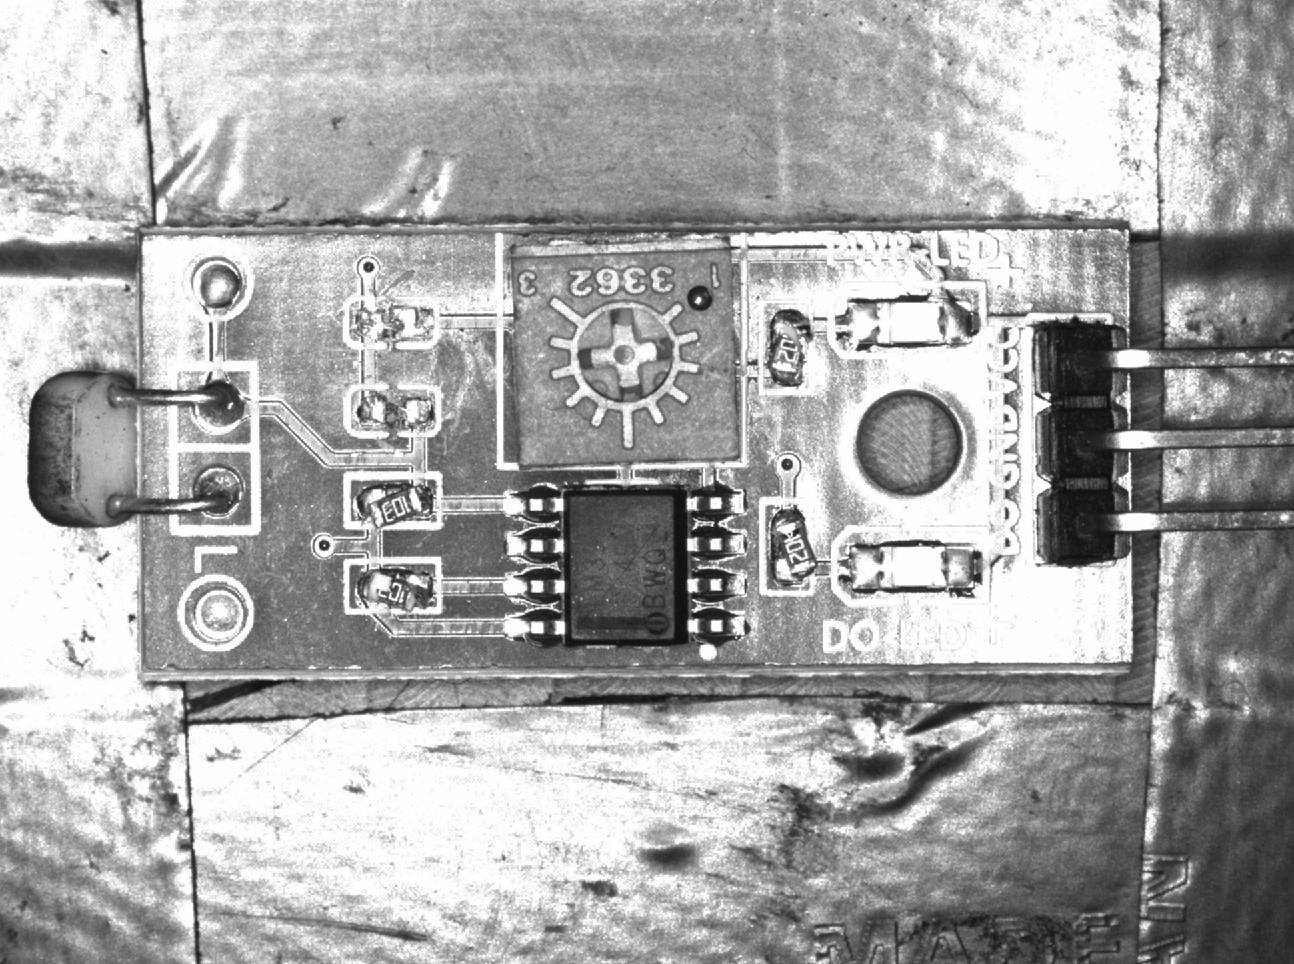lifted: (344, 473, 441, 531), (345, 559, 440, 613), (760, 499, 814, 594), (763, 299, 811, 392)
miss: (347, 298, 440, 350), (345, 386, 436, 436)
